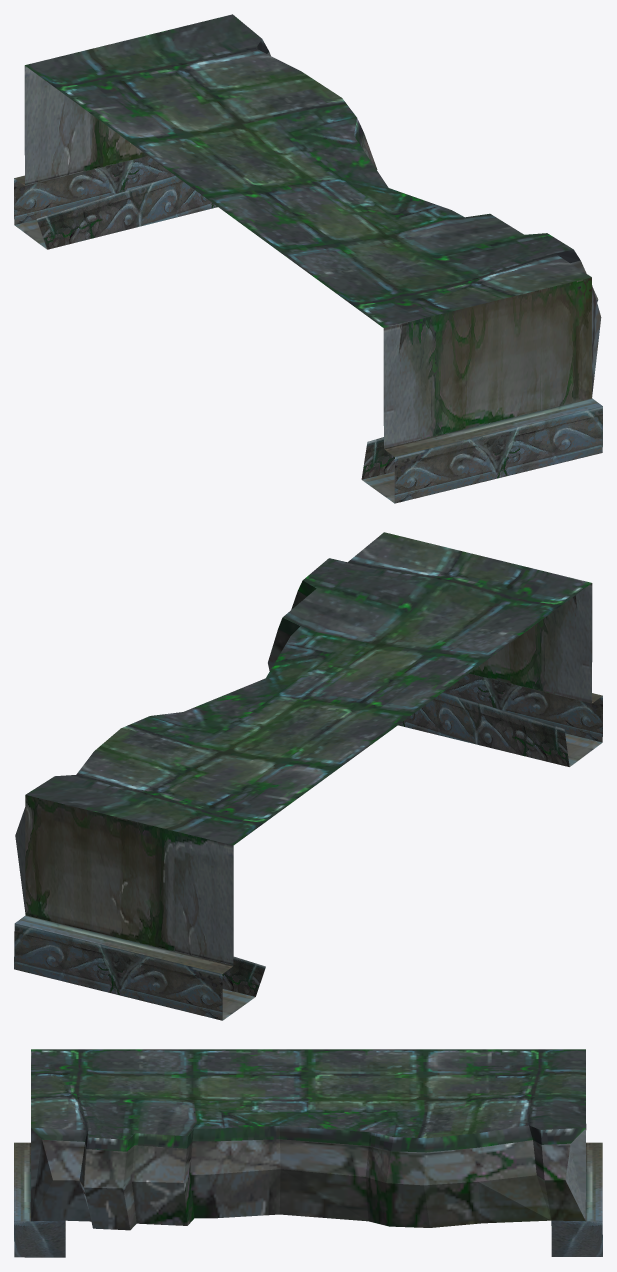
Rendered from stemple_bridgesmall_cap_01.fbx.
3 views of the same model, one above another, from view 1: azimuth 30°, elevation 25°; view 2: azimuth 150°, elevation 25°; view 3: azimuth 270°, elevation 25° (orthographic). The views are drawn at different scales.
Visible parts, largest first — view 1: stemple_bridgesmall_cap_01-0; view 2: stemple_bridgesmall_cap_01-0; view 3: stemple_bridgesmall_cap_01-0.
Part boxes in pixels (x1,y1,x2,y2): stemple_bridgesmall_cap_01-0: [14, 14, 602, 503]; stemple_bridgesmall_cap_01-0: [14, 532, 602, 1020]; stemple_bridgesmall_cap_01-0: [14, 1049, 602, 1257].
Size of the model in its own units: 2.01 by 1.25 by 5.12.
